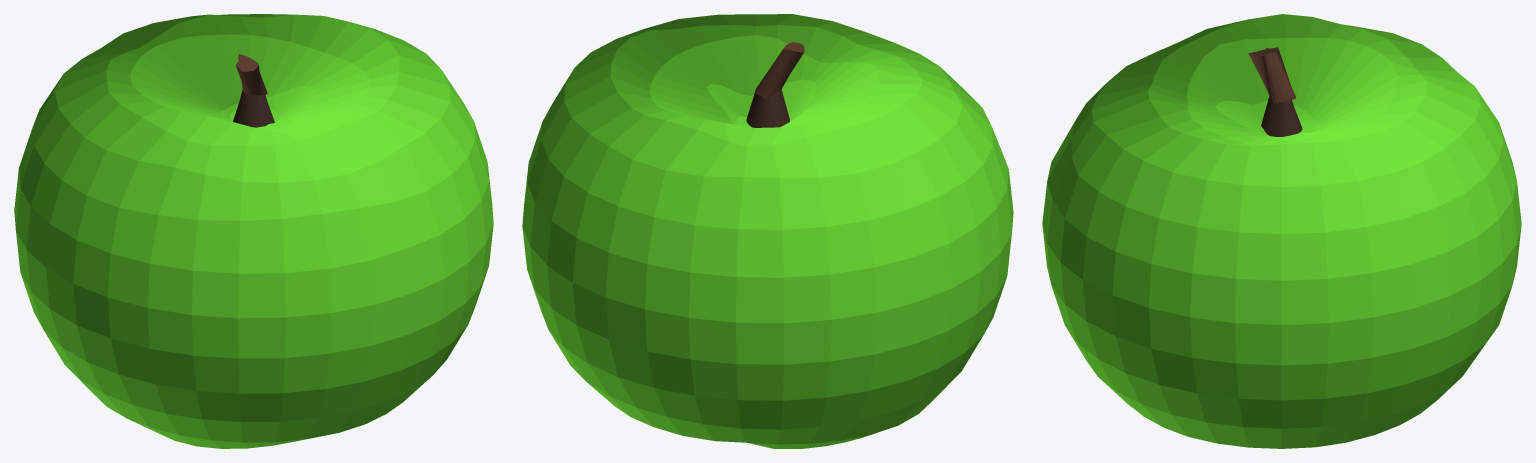
File: apple.fbx
The picture shows the model from 3 angles, left to right: view 1: azimuth 30°, elevation 25°; view 2: azimuth 150°, elevation 25°; view 3: azimuth 270°, elevation 25°; orthographic projection. The views are drawn at different scales.
Parts seen in each view (by area): view 1: Сфера, Цилиндр, Цилиндр.001; view 2: Сфера, Цилиндр.001, Цилиндр; view 3: Сфера, Цилиндр.001, Цилиндр.
Part boxes in pixels (bbox=[...]): Сфера: bbox=[14, 14, 493, 448]; Цилиндр: bbox=[233, 90, 274, 127]; Цилиндр.001: bbox=[235, 54, 267, 95]; Сфера: bbox=[522, 14, 1013, 448]; Цилиндр.001: bbox=[755, 42, 804, 100]; Цилиндр: bbox=[746, 89, 789, 127]; Сфера: bbox=[1042, 14, 1521, 448]; Цилиндр.001: bbox=[1248, 47, 1296, 104]; Цилиндр: bbox=[1261, 96, 1302, 136].
Bounding box in the file's own units: 200 × 160 × 200.
